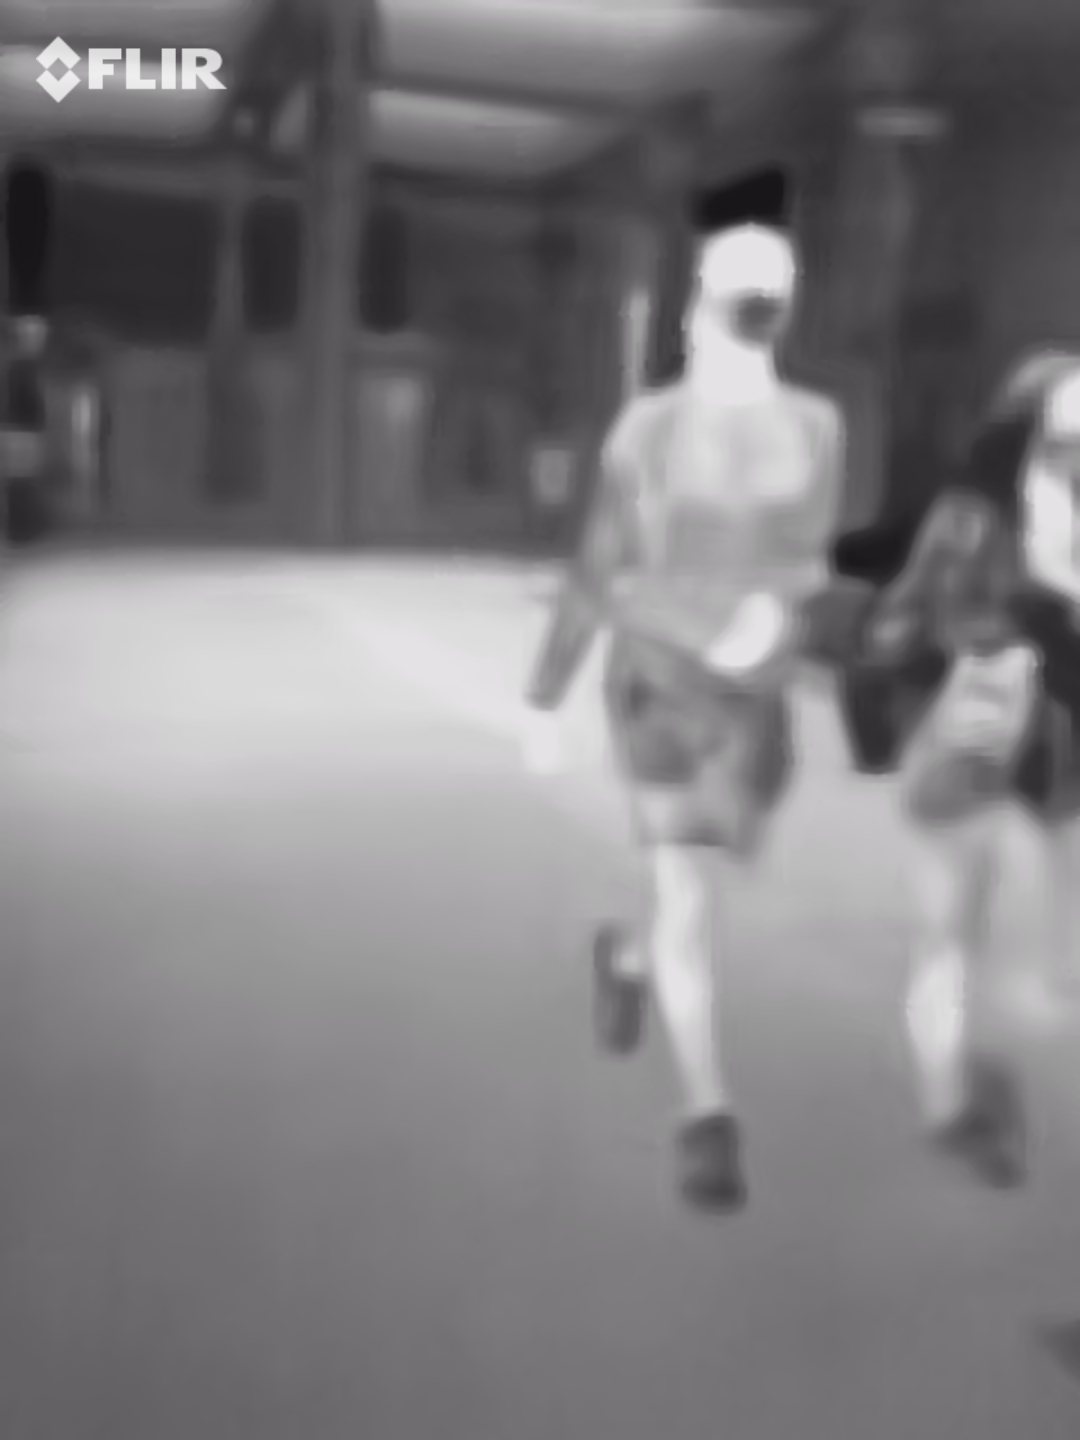head: (682, 210, 800, 365)
